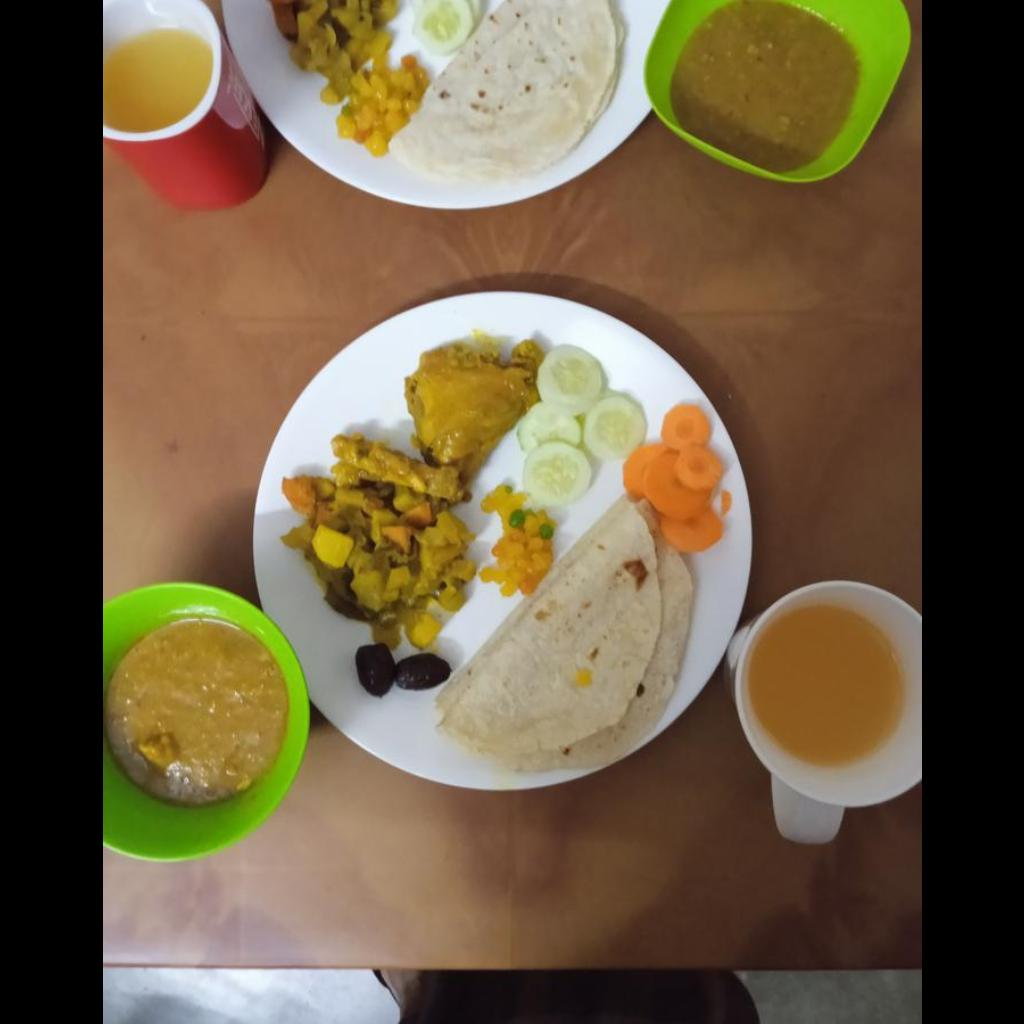burinda: (322, 58, 420, 150), (480, 479, 557, 593)
chicken: (323, 341, 533, 497)
daal: (671, 0, 866, 166), (115, 619, 275, 794)
dates: (355, 644, 449, 692)
juice: (748, 608, 898, 770), (103, 36, 201, 125)
ruti: (430, 491, 696, 770), (390, 2, 627, 186)
salad: (526, 343, 719, 546)
vegetable: (280, 481, 469, 643)
